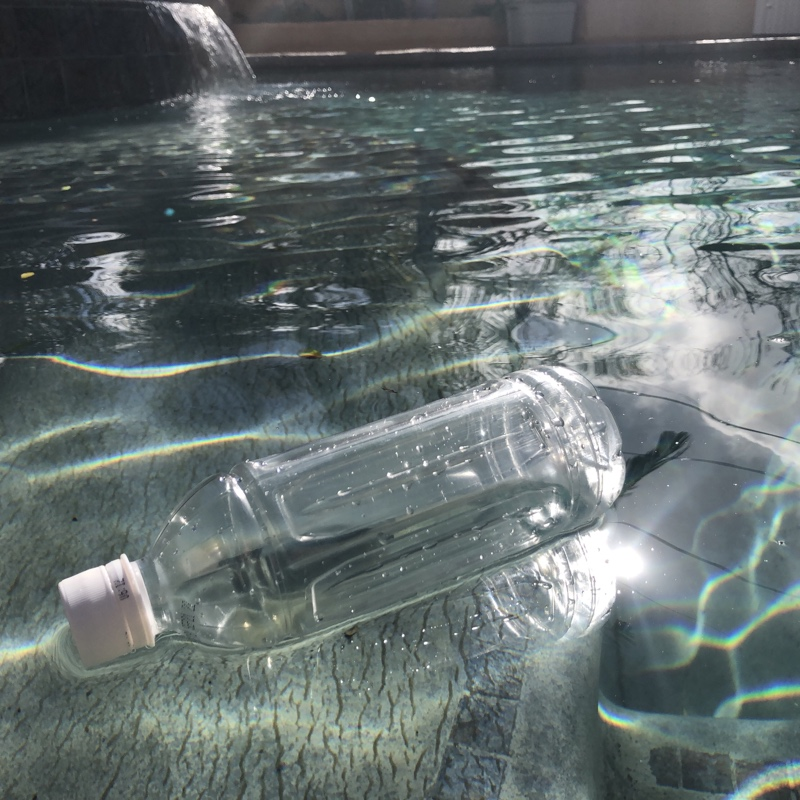Plastic Bottle: (53, 357, 631, 681)
